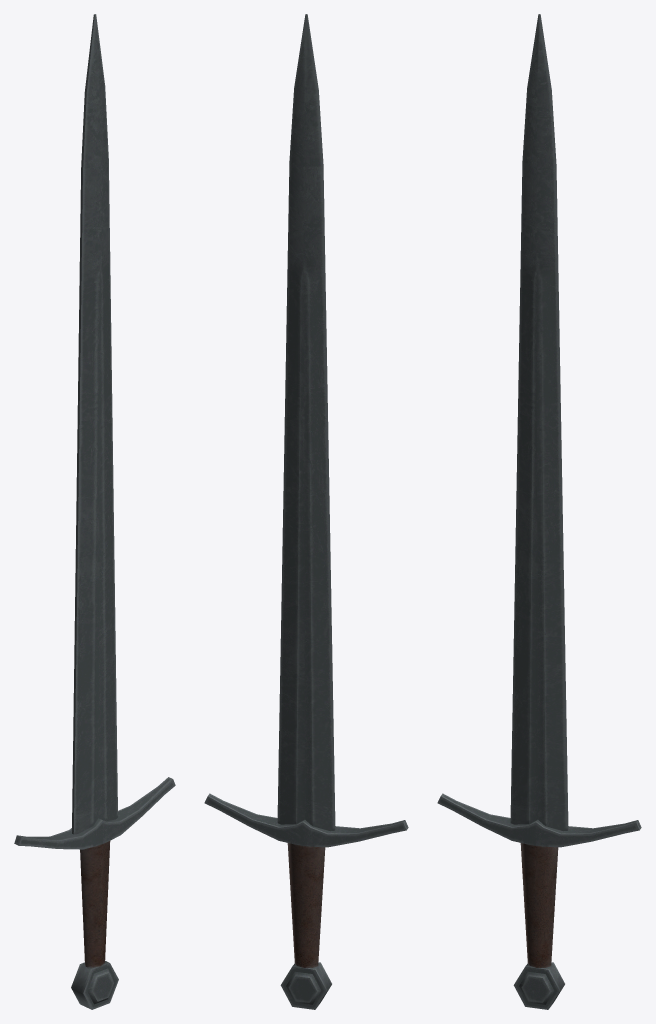
Rendered from longsword.fbx.
3 renders of one model, left to right at view 1: azimuth 30°, elevation 25°; view 2: azimuth 150°, elevation 25°; view 3: azimuth 330°, elevation 25°, orthographic.
Parts seen in each view (by area): view 1: longsword; view 2: longsword; view 3: longsword.
Boxes of the visible parts, x1,y1,x2,y2 form: longsword: (14,14,175,1009); longsword: (204,14,408,1009); longsword: (437,14,641,1009).
Size of the model in its own units: 37.62 by 197 by 9.32.
